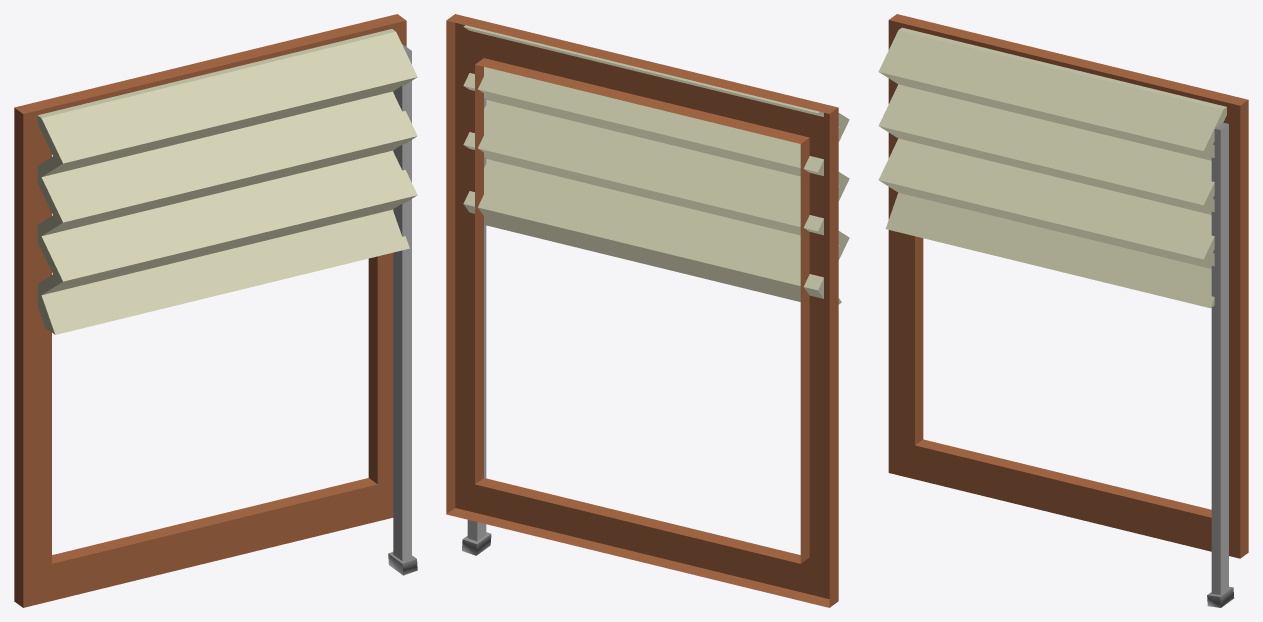
3 renders of one model, left to right at view 1: azimuth 30°, elevation 25°; view 2: azimuth 150°, elevation 25°; view 3: azimuth 330°, elevation 25°, orthographic. The views are drawn at different scales.
Parts seen in each view (by area): view 1: polySurface664; view 2: polySurface664; view 3: polySurface664.
Boxes of the visible parts, <box> form: polySurface664: <box>14,14,417,607</box>; polySurface664: <box>446,14,849,607</box>; polySurface664: <box>878,14,1248,607</box>.
Bounding box in the file's own units: 146 × 196 × 22.84.
